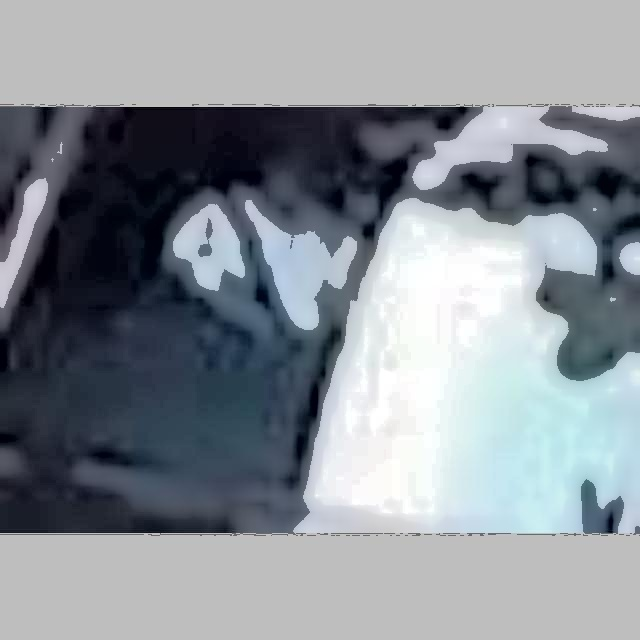pakai: (131, 148, 394, 378)
